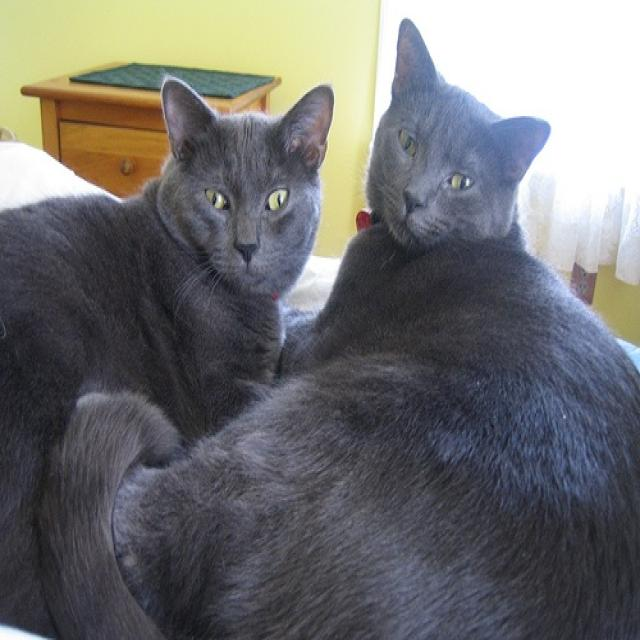cat: (41, 17, 639, 638), (4, 74, 335, 538)
